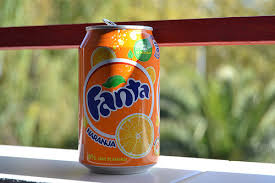fanta: (82, 28, 159, 170)
